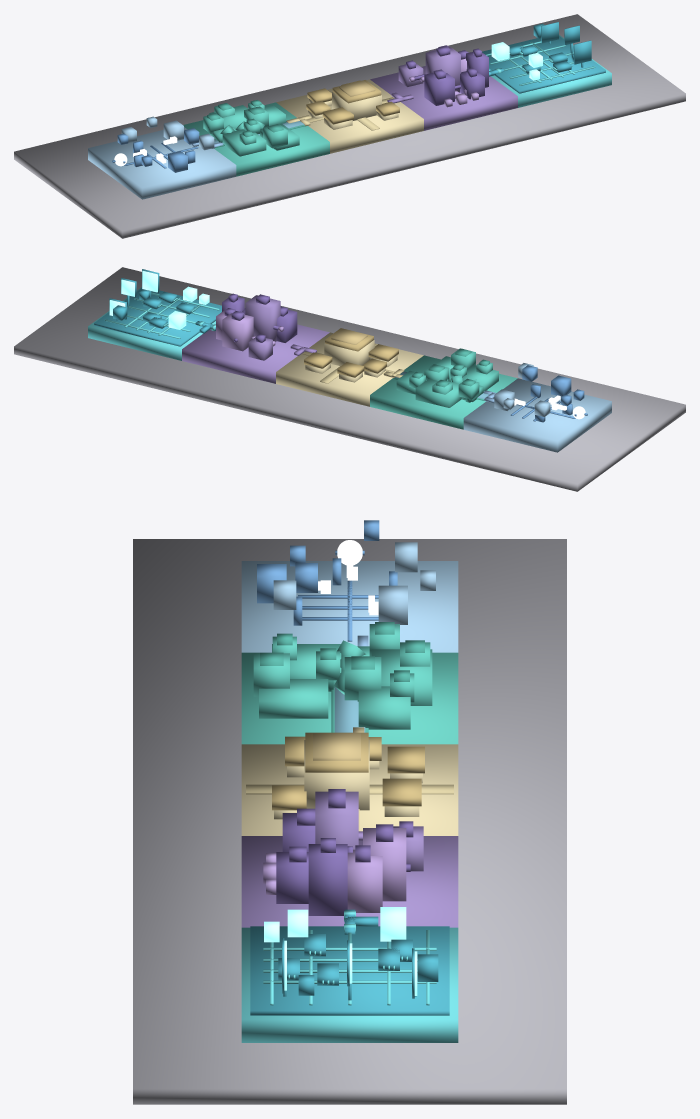
Rendered from MAP_PROJECT_GAME.fbx.
3 renders of one model, top to bottom at view 1: azimuth 30°, elevation 25°; view 2: azimuth 150°, elevation 25°; view 3: azimuth 270°, elevation 25°, orthographic. The views are drawn at different scales.
Parts seen in each view (by area): view 1: Ground, Zone1_Base, Zone4_Base, Zone3_Base, Zone2_Base, Z5_CircuitBase, Zone5_Base, Z4_Bldg2, Z4_Bldg0, Z3_MainBuilding, Z2_Hill0, Z4_Bldg3 (+8 smaller); view 2: Ground, Zone1_Base, Zone4_Base, Zone3_Base, Zone2_Base, Z5_CircuitBase, Zone5_Base, Z4_Bldg2, Z4_Bldg1, Z2_Hill1, Z3_MainBuilding, Z4_Bldg0 (+6 smaller); view 3: Ground, Zone1_Base, Z5_CircuitBase, Zone3_Base, Zone4_Base, Zone5_Base, Zone2_Base, Z4_Bldg6, Z2_Hill2, Z4_Bldg1, Z4_Bldg2, Z2_Hill3 (+18 smaller).
Part boxes in pixels (left/top/right/bottom): Ground: left=14, top=14, right=685, bottom=238; Zone1_Base: left=88, top=127, right=236, bottom=199; Zone4_Base: left=370, top=66, right=517, bottom=130; Zone3_Base: left=276, top=79, right=423, bottom=153; Zone2_Base: left=183, top=102, right=329, bottom=176; Z5_CircuitBase: left=482, top=36, right=605, bottom=93; Zone5_Base: left=491, top=35, right=611, bottom=107; Z4_Bldg2: left=425, top=47, right=460, bottom=92; Z4_Bldg0: left=424, top=72, right=454, bottom=105; Z3_MainBuilding: left=332, top=91, right=381, bottom=120; Z2_Hill0: left=222, top=129, right=266, bottom=156; Z4_Bldg3: left=460, top=71, right=484, bottom=99; Ground: left=14, top=267, right=685, bottom=491; Zone1_Base: left=463, top=378, right=611, bottom=452; Zone4_Base: left=182, top=324, right=329, bottom=383; Zone3_Base: left=276, top=332, right=423, bottom=406; Zone2_Base: left=370, top=355, right=517, bottom=429; Z5_CircuitBase: left=94, top=288, right=221, bottom=346; Zone5_Base: left=88, top=287, right=215, bottom=360; Z4_Bldg2: left=245, top=295, right=280, bottom=341; Z4_Bldg1: left=222, top=313, right=253, bottom=351; Z2_Hill1: left=415, top=379, right=461, bottom=407; Z3_MainBuilding: left=324, top=340, right=374, bottom=365; Z4_Bldg0: left=277, top=309, right=297, bottom=342; Ground: left=133, top=539, right=566, bottom=1104; Zone1_Base: left=241, top=561, right=458, bottom=652; Z5_CircuitBase: left=250, top=926, right=449, bottom=1015; Zone3_Base: left=241, top=744, right=458, bottom=835; Zone4_Base: left=241, top=836, right=458, bottom=927; Zone5_Base: left=241, top=927, right=458, bottom=1042; Zone2_Base: left=241, top=652, right=458, bottom=744; Z4_Bldg6: left=308, top=844, right=347, bottom=915; Z2_Hill2: left=259, top=679, right=328, bottom=718; Z4_Bldg1: left=363, top=828, right=406, bottom=901; Z4_Bldg2: left=315, top=791, right=358, bottom=849; Z2_Hill3: left=358, top=686, right=410, bottom=729.
Bounding box in the file's own units: 3000 × 315 × 1000.
